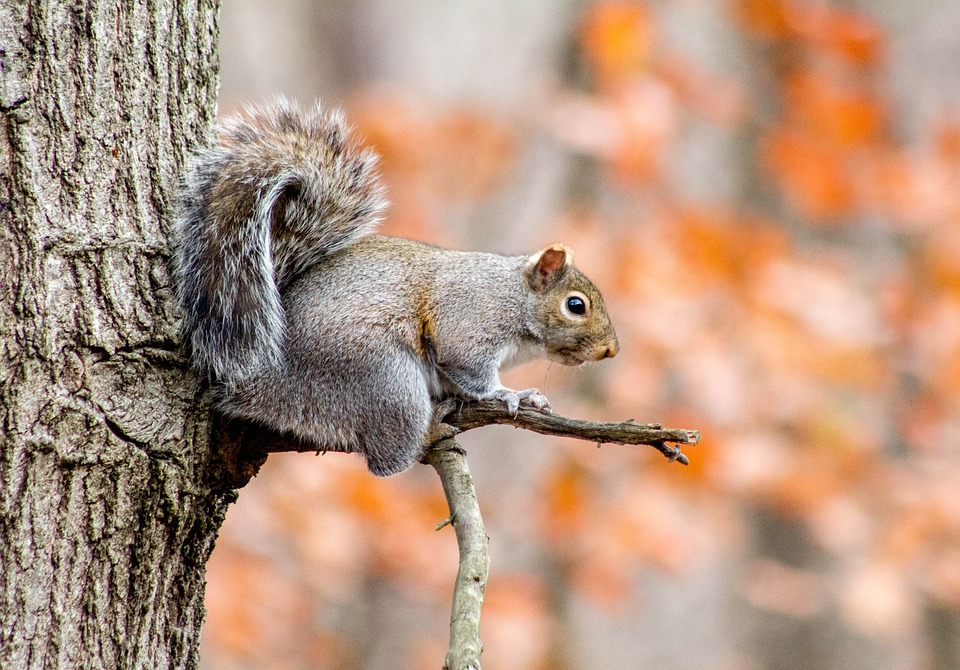squirrel: (177, 91, 622, 474)
